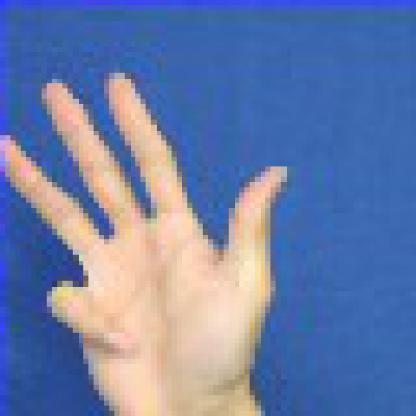nine: (0, 41, 354, 410)
